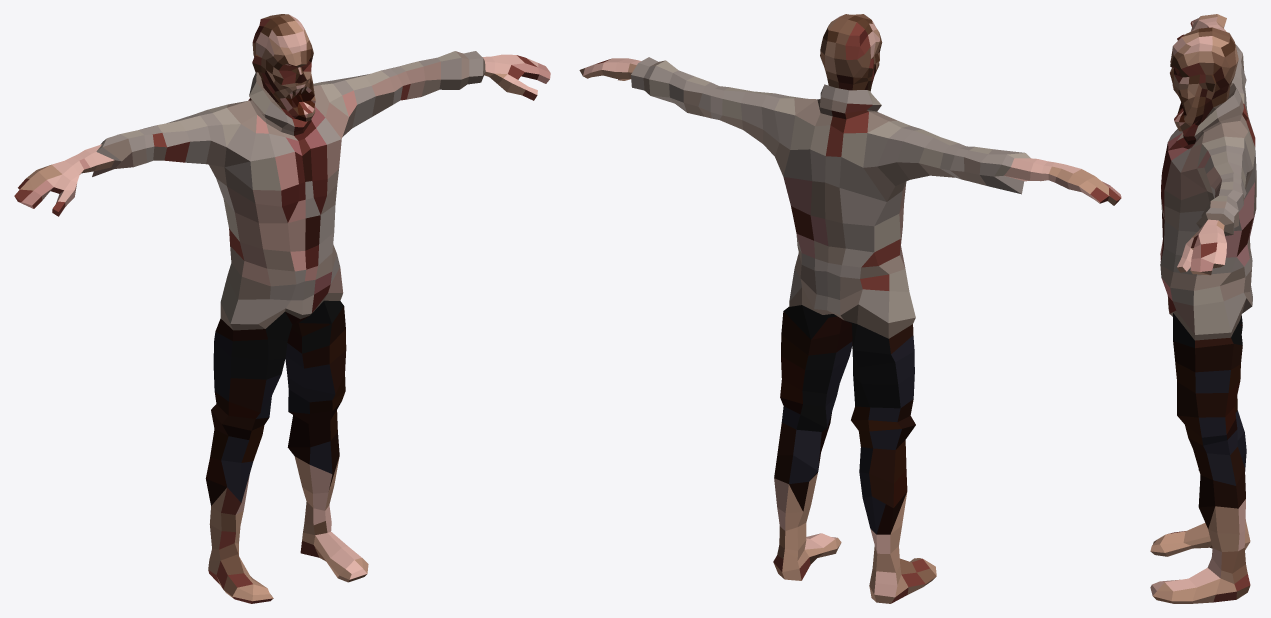
Rendered from zombie1.obj.
3 views of the same model, side by side, from view 1: azimuth 30°, elevation 25°; view 2: azimuth 150°, elevation 25°; view 3: azimuth 270°, elevation 25° (orthographic). The views are drawn at different scales.
Visible parts, largest first — view 1: lpMale_zombie_E_peopleColors; view 2: lpMale_zombie_E_peopleColors; view 3: lpMale_zombie_E_peopleColors.
Boxes of the visible parts, x1=… form: lpMale_zombie_E_peopleColors: x1=14, y1=14, x2=550, y2=603; lpMale_zombie_E_peopleColors: x1=579, y1=14, x2=1121, y2=603; lpMale_zombie_E_peopleColors: x1=1150, y1=14, x2=1256, y2=603.
Bounding box in the file's own units: 33.74 × 33.63 × 5.97.
